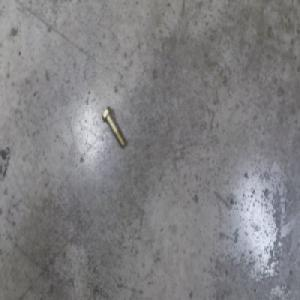Bolt: (101, 106, 125, 149)
